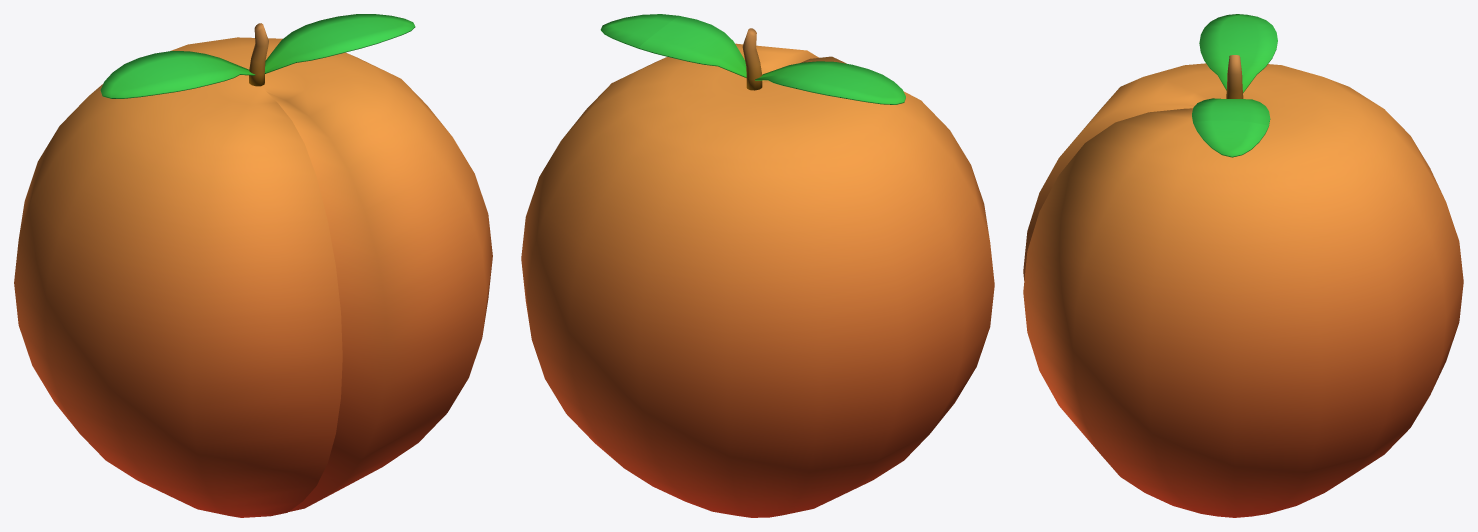
Rendered from peach.fbx.
The picture shows the model from 3 angles, left to right: view 1: azimuth 30°, elevation 25°; view 2: azimuth 150°, elevation 25°; view 3: azimuth 270°, elevation 25°; orthographic projection. The views are drawn at different scales.
Parts seen in each view (by area): view 1: peach; view 2: peach; view 3: peach.
Part boxes in pixels (bbox=[...]): peach: bbox=[14, 14, 492, 517]; peach: bbox=[521, 14, 994, 517]; peach: bbox=[1023, 14, 1463, 517].
Size of the model in its own units: 40.06 by 44.02 by 38.54.
